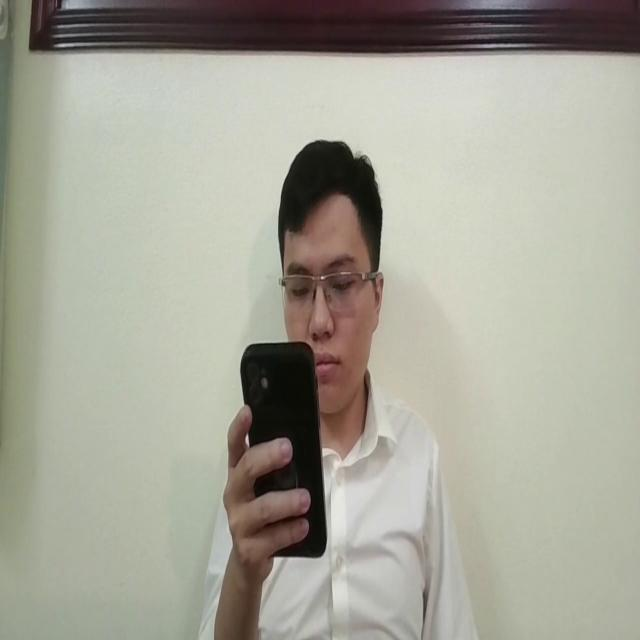phone: (240, 334, 330, 560)
student: (199, 130, 474, 640)
